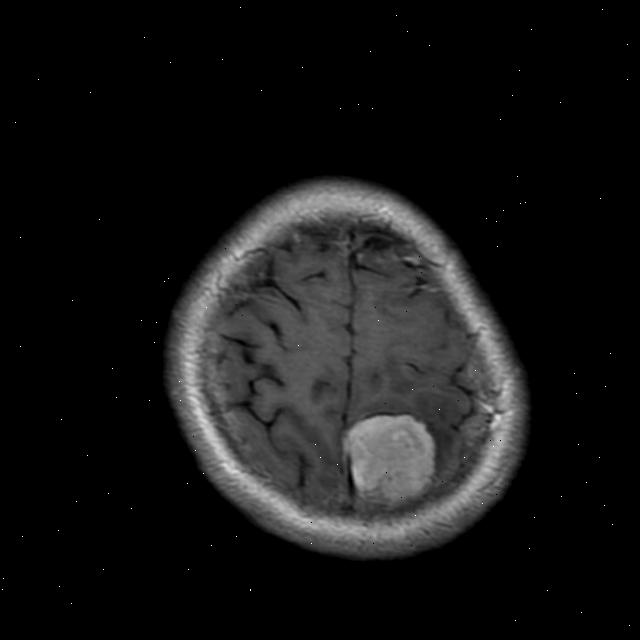Meningioma: (341, 406, 442, 510)
